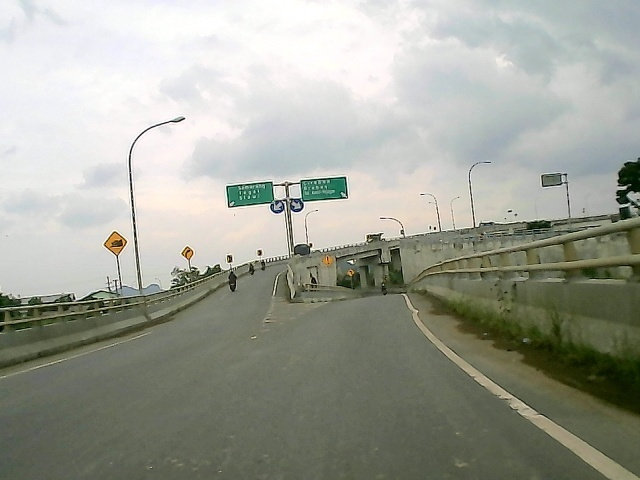Hati-hati: (321, 254, 335, 268)
Jalanan menanjak: (103, 229, 129, 257)
Tikungan ke kanan: (179, 246, 195, 262)
